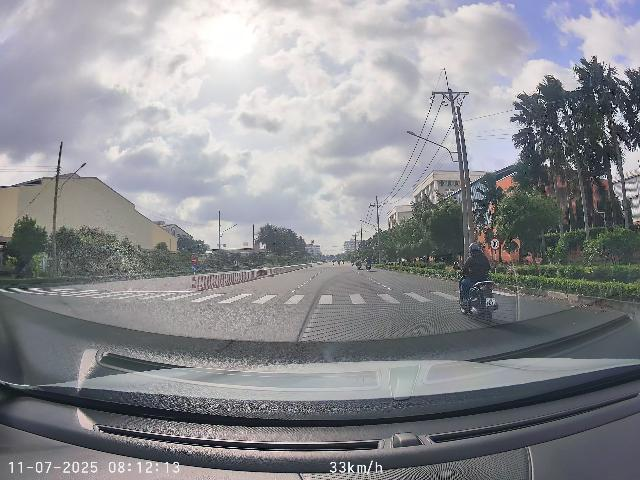127-toc-do-toi-da-30: (490, 237, 501, 250)
